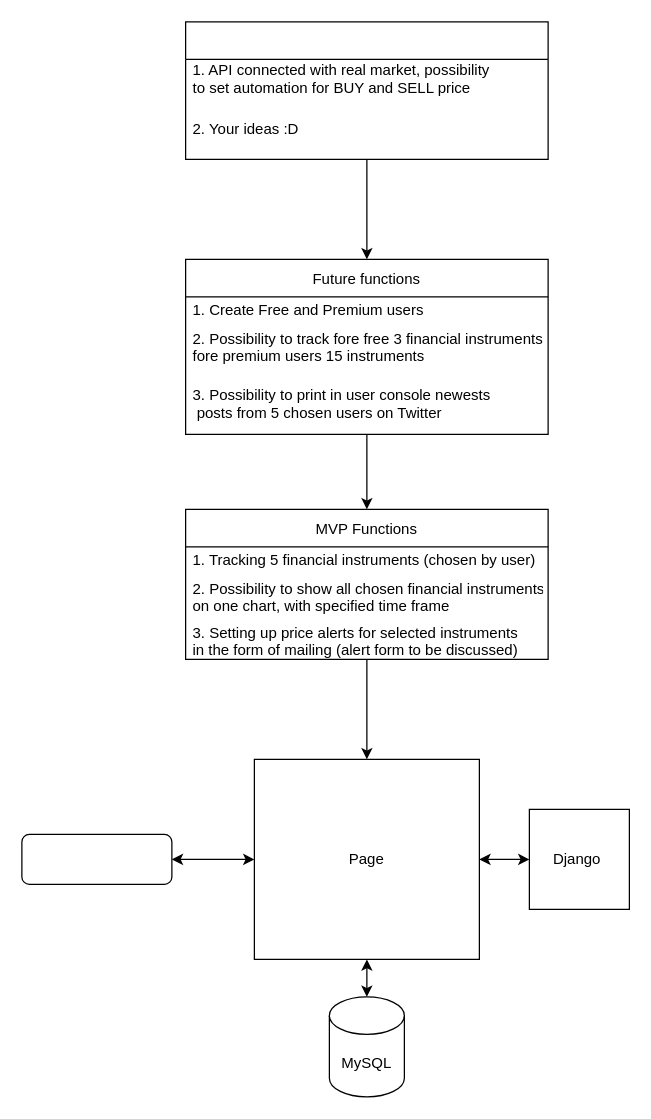
The diagram is 651 pixels wide and 1119 high, and some of its shapes have lost their labels. Here are the shapes that lost their labels. From the top down, the box of each, then its label:
(184, 21, 548, 159): Functions after future functions
(21, 833, 172, 884): User
